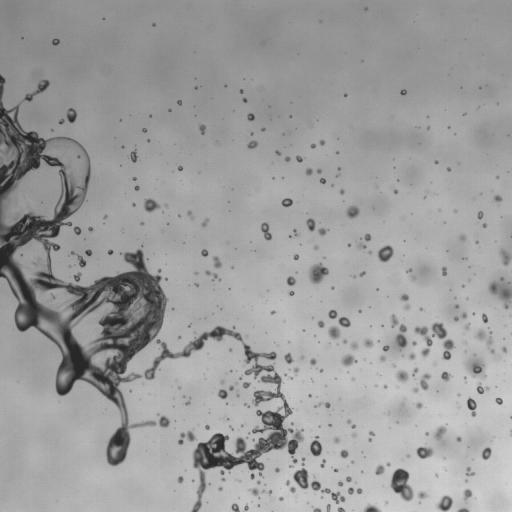droplet: (414, 322, 455, 359), (390, 468, 413, 501), (489, 281, 511, 308), (465, 354, 486, 380), (309, 263, 328, 284), (377, 245, 393, 262), (436, 495, 452, 511), (178, 430, 196, 444), (416, 445, 433, 458), (144, 198, 159, 212), (310, 437, 321, 456), (341, 354, 356, 366), (500, 249, 511, 265), (346, 205, 359, 218), (434, 425, 446, 439), (328, 326, 340, 339), (395, 370, 408, 382), (67, 108, 76, 123), (477, 382, 488, 393), (338, 317, 350, 327), (306, 218, 315, 231), (482, 447, 491, 459), (390, 314, 398, 327), (441, 371, 451, 381), (249, 487, 259, 497), (281, 198, 292, 207), (129, 150, 137, 162), (213, 256, 221, 268), (284, 353, 293, 363), (218, 389, 227, 399), (374, 465, 384, 474), (286, 276, 295, 285), (363, 338, 372, 347), (463, 489, 471, 499), (328, 310, 337, 318), (340, 449, 348, 458), (418, 491, 427, 499), (247, 141, 257, 148), (318, 228, 328, 235), (73, 226, 81, 234), (466, 467, 474, 475), (231, 503, 239, 511), (74, 272, 81, 281), (199, 124, 205, 134), (363, 233, 370, 241), (350, 342, 358, 349), (482, 313, 487, 323), (247, 113, 254, 120), (201, 249, 208, 256), (317, 320, 324, 327), (494, 195, 502, 201), (202, 218, 208, 226), (412, 367, 418, 375), (52, 39, 59, 45), (296, 156, 303, 162), (306, 168, 312, 175), (477, 211, 483, 218), (459, 234, 465, 241), (310, 358, 316, 365), (243, 382, 250, 388), (495, 398, 502, 404), (415, 402, 422, 408), (177, 476, 183, 483), (358, 243, 366, 248), (320, 459, 325, 467), (85, 249, 91, 255), (383, 345, 389, 351), (409, 353, 415, 359), (293, 229, 298, 236), (442, 267, 446, 275), (337, 507, 345, 511), (401, 89, 406, 95), (187, 211, 192, 217), (293, 254, 298, 260), (464, 323, 469, 329), (380, 355, 385, 361), (293, 367, 298, 373), (185, 399, 190, 405), (324, 402, 330, 407), (334, 437, 339, 443), (326, 504, 330, 511), (59, 119, 64, 124), (285, 156, 290, 161), (320, 178, 325, 183), (360, 271, 365, 276), (413, 387, 418, 392), (369, 431, 374, 436), (346, 476, 351, 481), (462, 312, 466, 318), (244, 505, 248, 511), (320, 140, 324, 145), (134, 186, 139, 190), (340, 189, 344, 194), (108, 249, 112, 254), (289, 291, 294, 295), (270, 310, 275, 314), (454, 316, 458, 321), (502, 347, 506, 352), (229, 385, 233, 390), (316, 403, 321, 407), (456, 437, 461, 441), (338, 481, 342, 486), (177, 100, 181, 104), (142, 128, 146, 132), (311, 144, 315, 148), (276, 151, 280, 155), (178, 166, 182, 170), (317, 169, 321, 173), (393, 189, 397, 193), (482, 223, 486, 227), (88, 227, 92, 231), (314, 245, 318, 249), (412, 341, 416, 345), (220, 380, 224, 384), (205, 425, 209, 429), (386, 462, 390, 466), (275, 468, 279, 472), (243, 98, 246, 102), (103, 215, 107, 218), (407, 269, 411, 272), (352, 433, 356, 436), (334, 468, 338, 471), (218, 487, 222, 490), (279, 497, 283, 500), (447, 168, 450, 171), (133, 177, 136, 180), (195, 283, 198, 286), (343, 340, 346, 343), (392, 364, 395, 367), (245, 403, 248, 406), (230, 426, 233, 429), (383, 385, 387, 387), (240, 90, 243, 92), (262, 128, 264, 131), (435, 160, 437, 163), (132, 203, 135, 205), (368, 251, 371, 253), (500, 278, 503, 280), (52, 295, 54, 298), (455, 305, 458, 307), (358, 310, 361, 312), (300, 356, 303, 358), (320, 369, 323, 371), (368, 439, 371, 441), (407, 454, 409, 457), (257, 481, 260, 483), (344, 94, 346, 96), (475, 241, 477, 243), (348, 244, 350, 246), (412, 277, 414, 279), (462, 285, 464, 287), (420, 308, 422, 310), (285, 374, 287, 376), (289, 377, 291, 379), (237, 394, 239, 396), (225, 417, 227, 419), (351, 461, 353, 463)
ligament: (0, 75, 302, 511), (293, 467, 345, 503), (23, 80, 49, 101), (475, 329, 494, 353), (395, 324, 407, 349), (71, 252, 86, 267), (260, 222, 271, 240), (466, 397, 476, 416), (419, 373, 430, 390), (400, 294, 409, 309), (205, 270, 219, 279), (363, 504, 381, 511), (286, 480, 295, 493), (347, 487, 362, 494), (347, 420, 355, 428), (262, 490, 271, 494), (457, 508, 469, 511), (313, 508, 321, 511), (301, 457, 304, 464), (510, 430, 511, 436)
